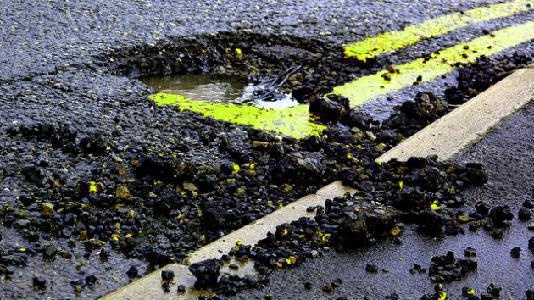pothole: (90, 26, 381, 101)
